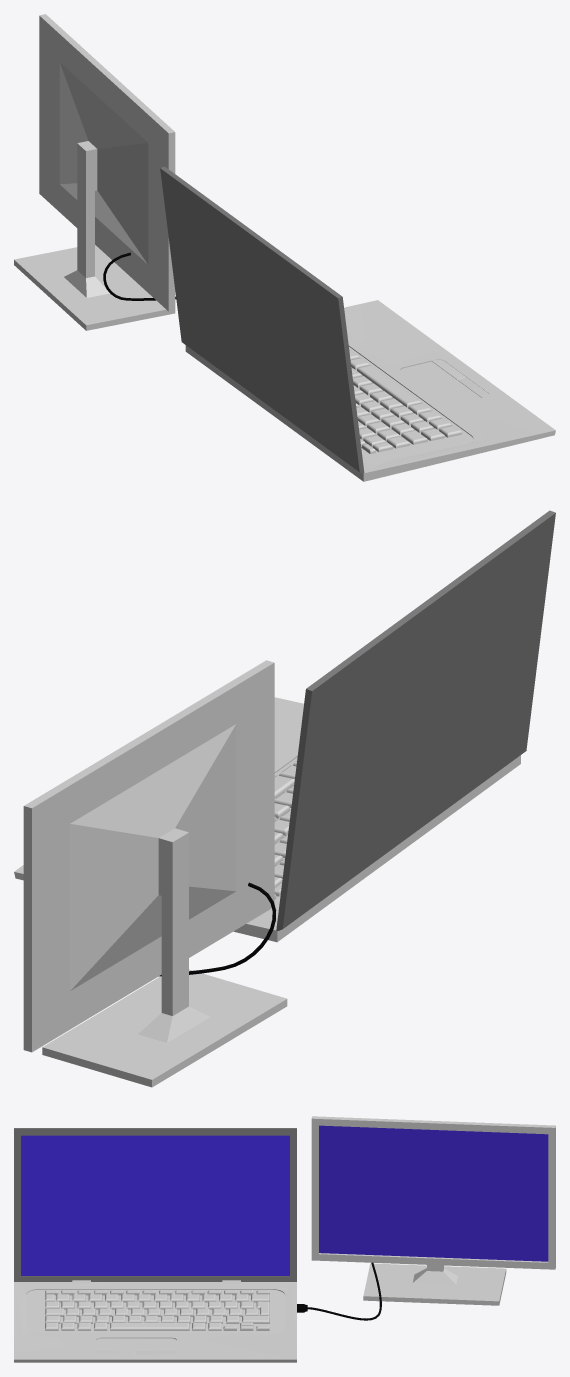
The model's file is computers.fbx.
The picture shows the model from 3 angles, top to bottom: view 1: azimuth 30°, elevation 25°; view 2: azimuth 150°, elevation 25°; view 3: azimuth 270°, elevation 25°; orthographic projection. The views are drawn at different scales.
Parts seen in each view (by area): view 1: Cube.001; view 2: Cube.001; view 3: Cube.001.
Part boxes in pixels (<box>): Cube.001: <box>14,14,555,481</box>; Cube.001: <box>14,510,555,1087</box>; Cube.001: <box>14,1116,555,1362</box>.
Size of the model in its own units: 231 by 192 by 556.
